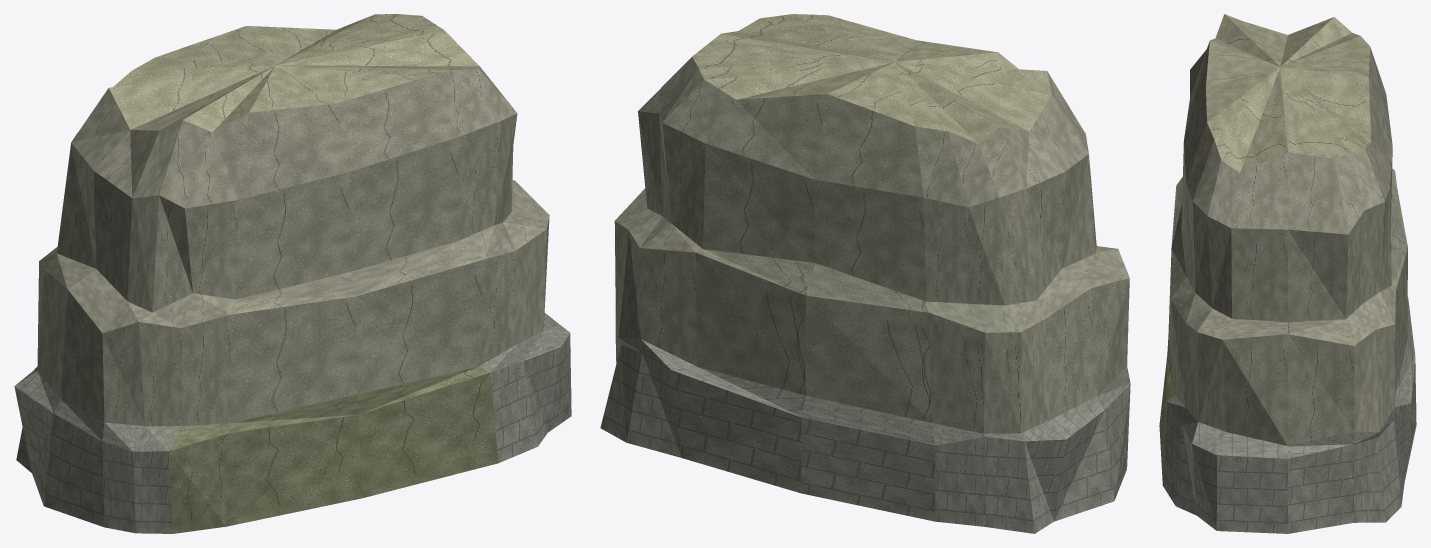
The model's file is SM_QD_UrbanRock_F_UrbanButtress.fbx.
The picture shows the model from 3 angles, left to right: view 1: azimuth 30°, elevation 25°; view 2: azimuth 150°, elevation 25°; view 3: azimuth 270°, elevation 25°; orthographic projection. The views are drawn at different scales.
Visible parts, largest first — view 1: SM_QD_UrbanRock_F_UrbanButtress; view 2: SM_QD_UrbanRock_F_UrbanButtress; view 3: SM_QD_UrbanRock_F_UrbanButtress.
Boxes of the visible parts, x1=… form: SM_QD_UrbanRock_F_UrbanButtress: x1=14, y1=14, x2=571, y2=533; SM_QD_UrbanRock_F_UrbanButtress: x1=600, y1=14, x2=1130, y2=533; SM_QD_UrbanRock_F_UrbanButtress: x1=1159, y1=14, x2=1416, y2=533.
Bounding box in the file's own units: 6 × 3 × 4.5.
1 material, 1 textured.
